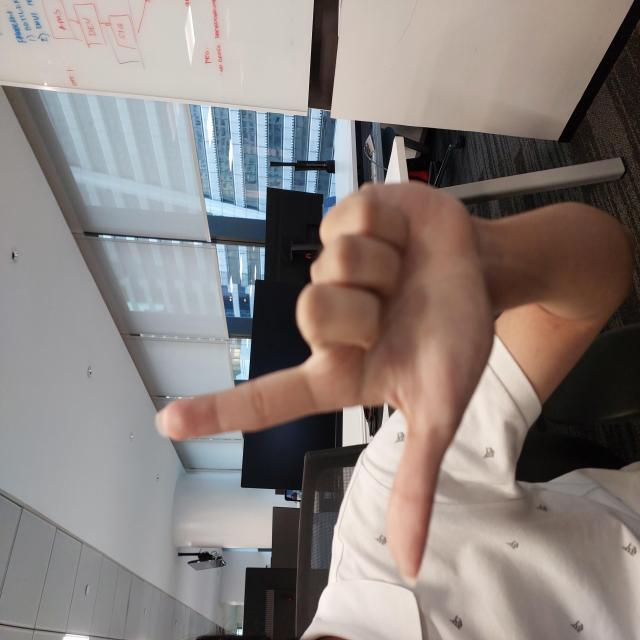L: (59, 157, 458, 499)
